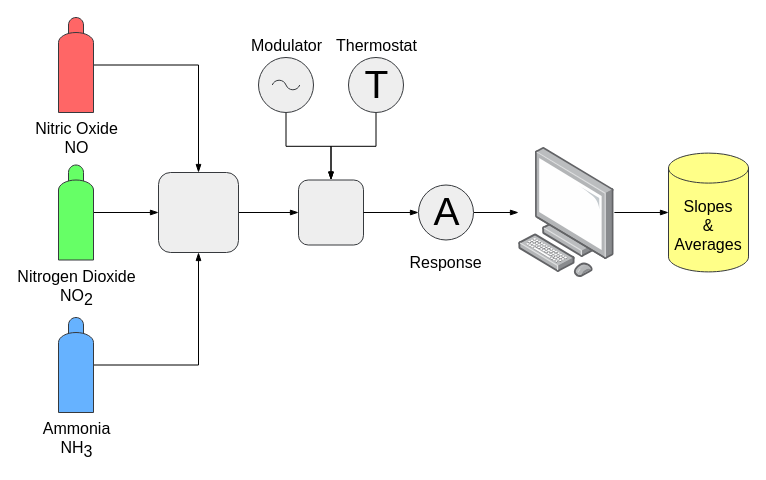
Image size: 766x480. Some labels were removed from this diagram. Each missing label, with the centre of its shape:
Computer: the point at 566,212
Gas mixing system: the point at 198,212
SiC-FET Sensors: the point at 331,212
